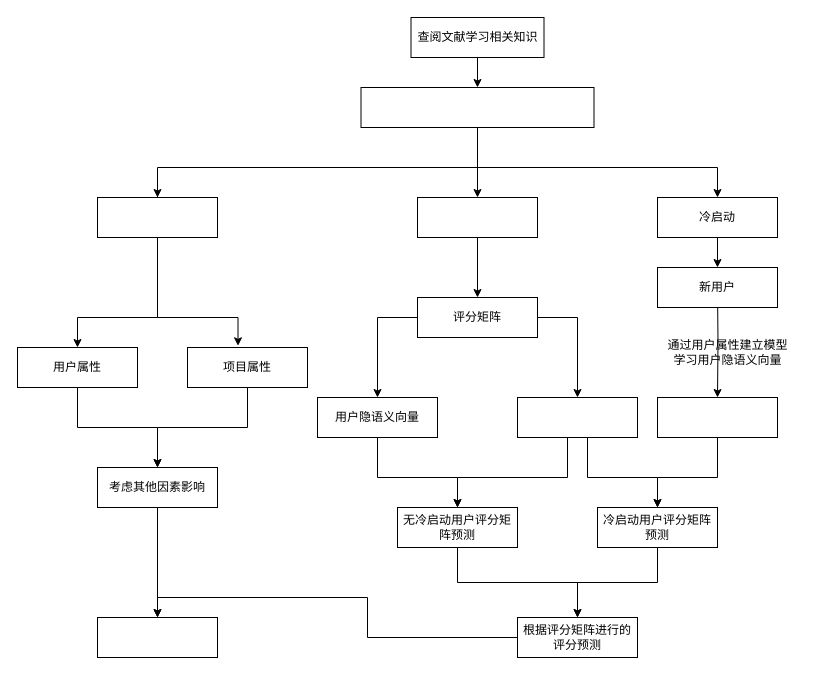
This 815x675 diagram has some shape labels left out. The box of each missing label's shape, as (x1, y1, x2, y2) in pixels:
传统推荐系统存在的需要改进的问题: (360, 86, 594, 128)
准确度: (96, 196, 218, 238)
扩展性: (416, 196, 538, 238)
新用户隐语义向量: (656, 396, 778, 438)
项目隐语义向量: (516, 396, 638, 438)
预测评分: (96, 616, 218, 658)
